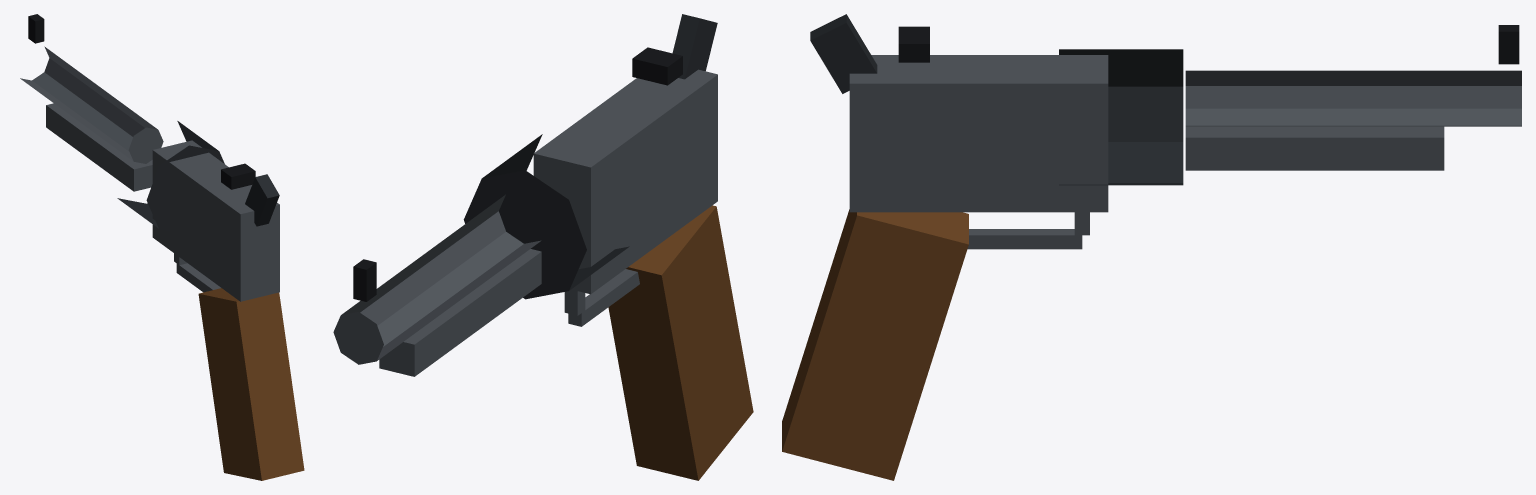
File: wpn_revolver_a.glb
3 views of the same model, side by side, from view 1: azimuth 30°, elevation 25°; view 2: azimuth 150°, elevation 25°; view 3: azimuth 270°, elevation 25° (orthographic). The views are drawn at different scales.
Visible parts, largest first — view 1: wpn_revolver_a_LOD0; view 2: wpn_revolver_a_LOD0; view 3: wpn_revolver_a_LOD0.
Boxes of the visible parts, x1,y1,x2,y2 form: wpn_revolver_a_LOD0: (20,14,304,480); wpn_revolver_a_LOD0: (333,14,753,480); wpn_revolver_a_LOD0: (782,14,1521,480).
Bounding box in the file's own units: 0.056 × 0.1909 × 0.2861.
